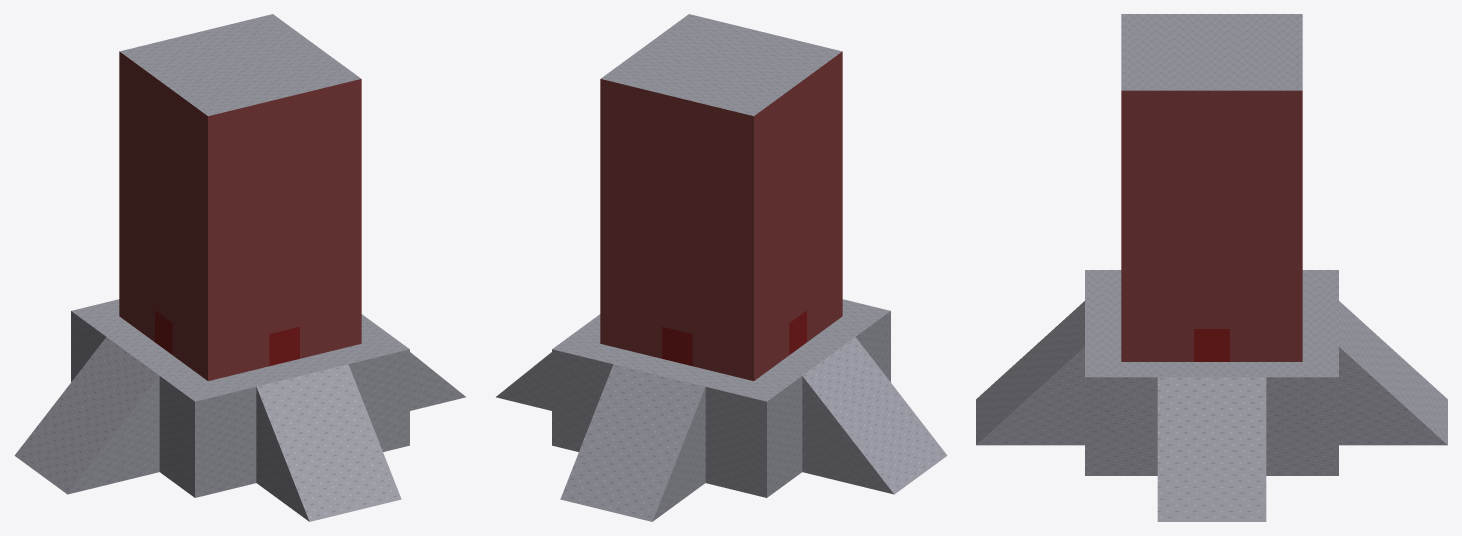
The model's file is Building_House_Top.fbx.
3 views of the same model, side by side, from view 1: azimuth 30°, elevation 25°; view 2: azimuth 150°, elevation 25°; view 3: azimuth 270°, elevation 25° (orthographic). The views are drawn at different scales.
Parts seen in each view (by area): view 1: Building_House001, Building_Base001; view 2: Building_House001, Building_Base001; view 3: Building_House001, Building_Base001.
Part boxes in pixels (box(x1,y1,x2,y2)): Building_House001: box(119, 14, 361, 380); Building_Base001: box(14, 299, 465, 521); Building_House001: box(600, 14, 842, 380); Building_Base001: box(496, 299, 947, 521); Building_House001: box(1121, 14, 1302, 361); Building_Base001: box(976, 270, 1447, 521).
Bounding box in the file's own units: 2600 × 2250 × 2600.
